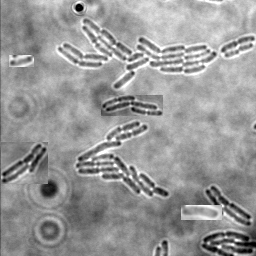Dividing: (219, 34, 255, 52), (223, 41, 253, 57)
Microcolony: (57, 18, 216, 89), (75, 120, 169, 197), (1, 142, 48, 184), (200, 230, 255, 255), (101, 95, 163, 116), (181, 205, 222, 220)
Rod: (9, 55, 34, 67)
